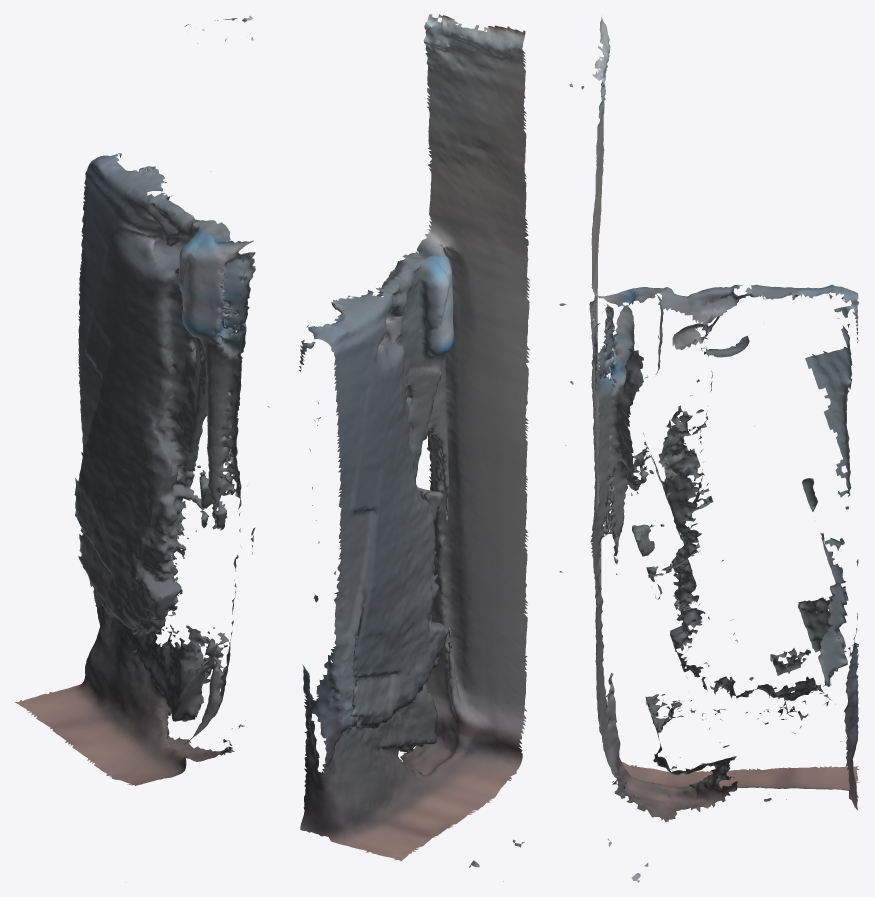
File: apartment-full-55-d12a430693b4.glb
The picture shows the model from 3 angles, left to right: view 1: azimuth 30°, elevation 25°; view 2: azimuth 150°, elevation 25°; view 3: azimuth 270°, elevation 25°; orthographic projection. The views are drawn at different scales.
Bounding box in the file's own units: 0.265 × 2.01 × 0.643.
